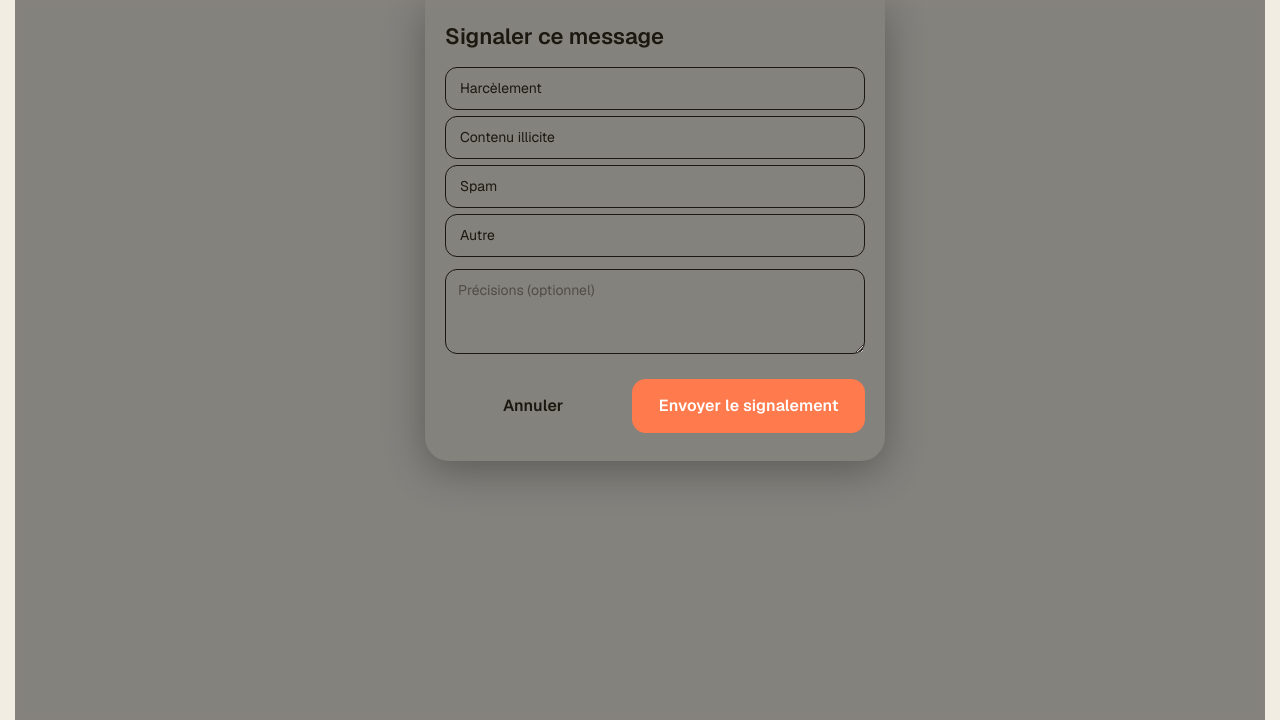
re-signaler (idempotent côté serveur) affiche quand même la confirmation
Click the button "Envoyer le signalement": (749, 406) x1=632 y1=379 x2=865 y2=433
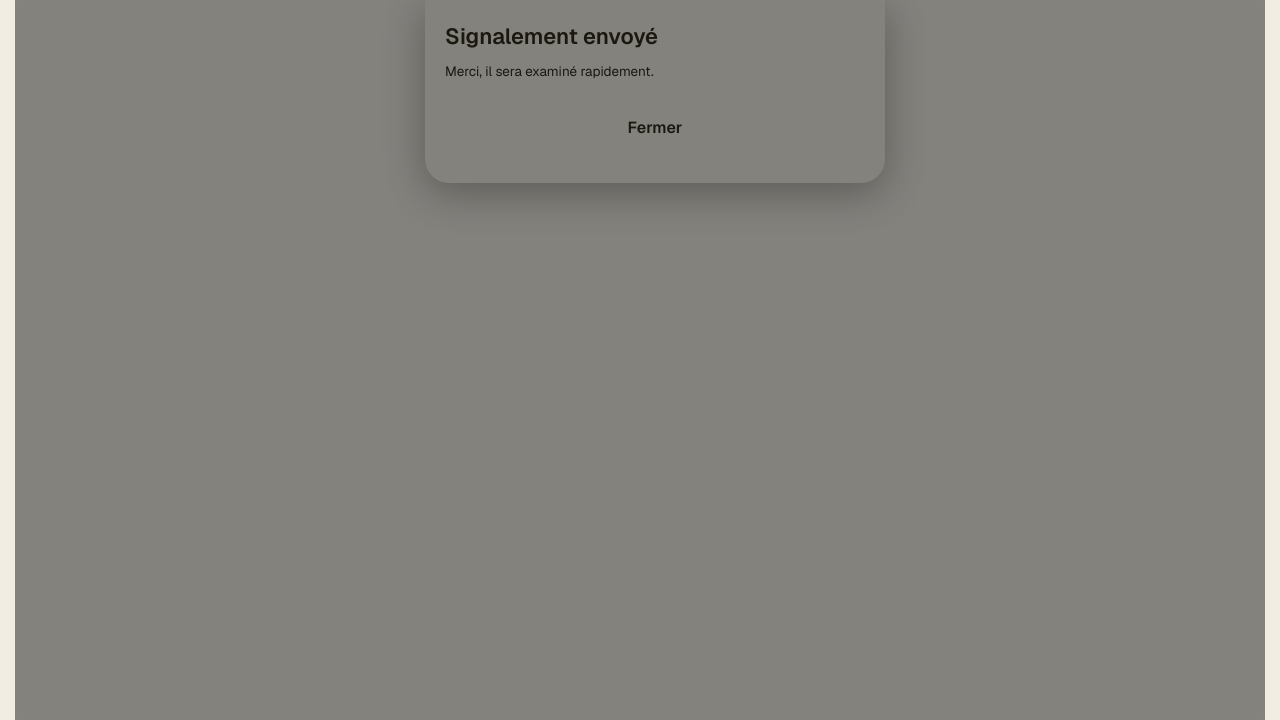
Result: the text "Signalement envoyé" is shown at x1=445 y1=22 x2=658 y2=50
